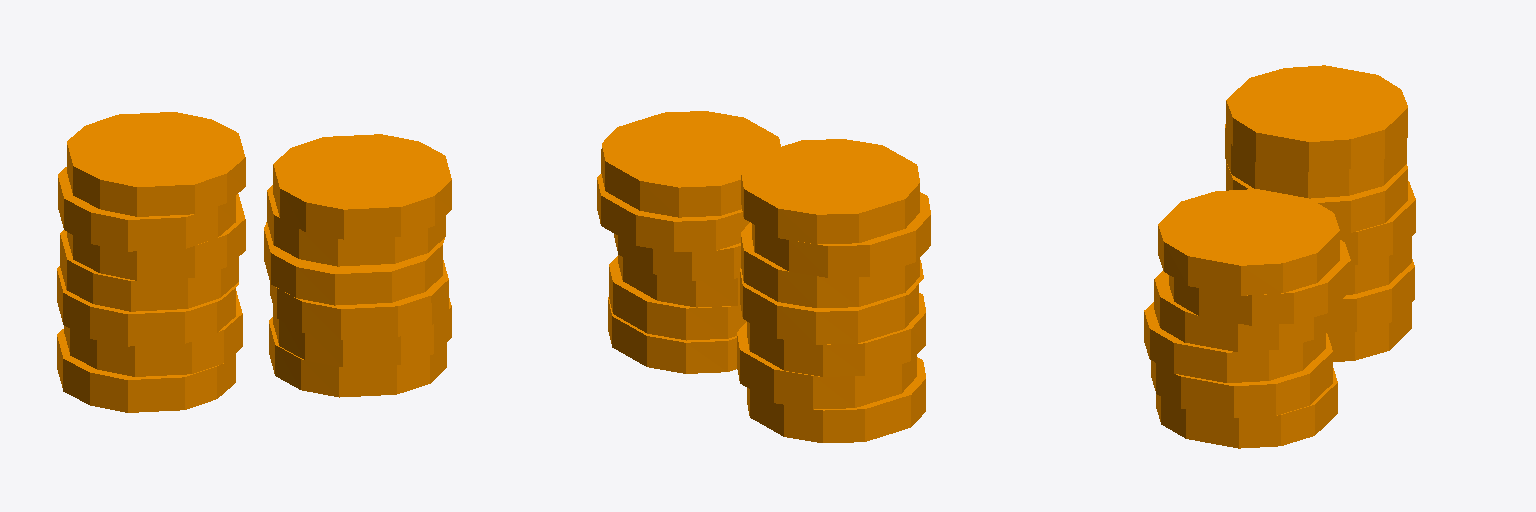
The model's file is gold.obj.
3 views of the same model, side by side, from view 1: azimuth 30°, elevation 25°; view 2: azimuth 150°, elevation 25°; view 3: azimuth 270°, elevation 25° (orthographic).
Parts seen in each view (by area): view 1: Cube.003; view 2: Cube.003; view 3: Cube.003.
Boxes of the visible parts, <box> form: Cube.003: <box>57,112,451,412</box>; Cube.003: <box>597,111,930,442</box>; Cube.003: <box>1144,65,1415,448</box>.
Size of the model in its own units: 1.11 by 0.7017 by 0.7676.